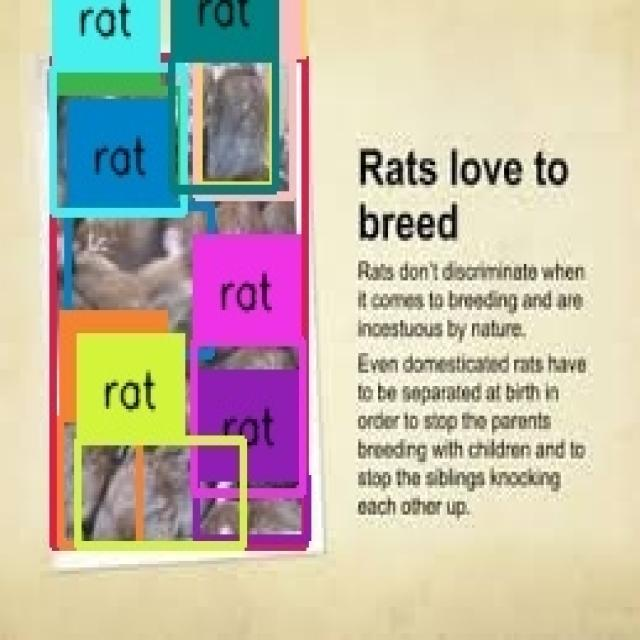rat: (53, 59, 305, 544), (69, 206, 213, 355), (53, 66, 184, 214), (78, 439, 243, 544), (195, 340, 304, 495), (54, 91, 183, 213), (172, 58, 276, 190), (196, 58, 293, 196), (60, 416, 140, 544), (200, 58, 274, 186), (198, 477, 306, 539)
